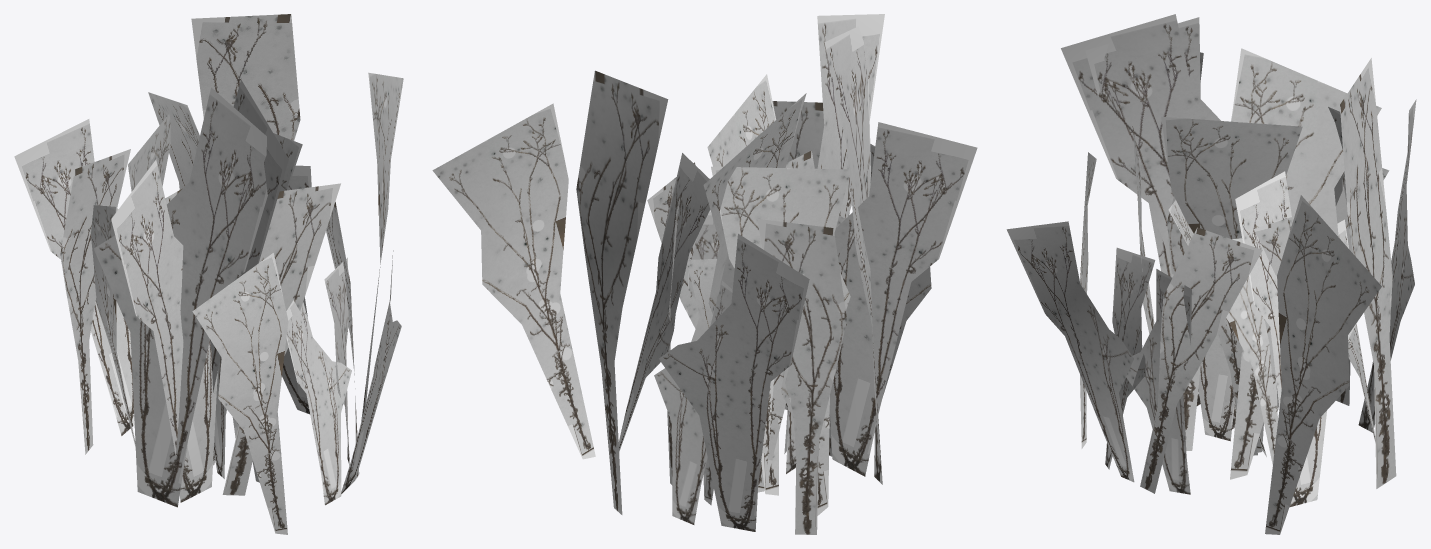
Rendered from Bush2.fbx.
The picture shows the model from 3 angles, left to right: view 1: azimuth 30°, elevation 25°; view 2: azimuth 150°, elevation 25°; view 3: azimuth 270°, elevation 25°; orthographic projection. The views are drawn at different scales.
Visible parts, largest first — view 1: LOD0; view 2: LOD0; view 3: LOD0.
Boxes of the visible parts, x1=… form: LOD0: x1=14, y1=14, x2=403, y2=534; LOD0: x1=432, y1=14, x2=977, y2=534; LOD0: x1=1006, y1=14, x2=1416, y2=534.
Size of what is drawn, in the model's own units: 170 by 172 by 145.
